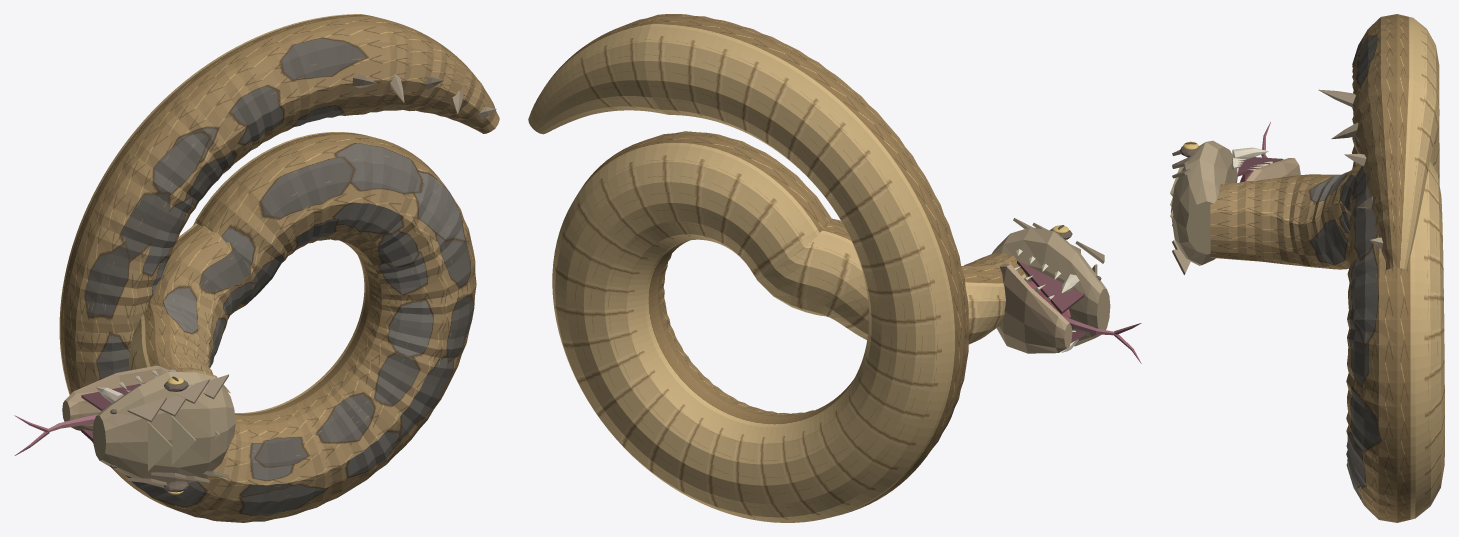
Rendered from serpaduna_v01_blockout.glb.
The picture shows the model from 3 angles, left to right: view 1: azimuth 30°, elevation 25°; view 2: azimuth 150°, elevation 25°; view 3: azimuth 270°, elevation 25°; orthographic projection.
Visible parts, largest first — view 1: body_deformable_static, skull, lower_jaw_articulatable, detail_009, detail_010; view 2: body_deformable_static, skull, lower_jaw_articulatable, detail_012; view 3: body_deformable_static, skull, lower_jaw_articulatable, detail_012, detail_046.
Boxes of the visible parts, x1,y1,x2,y2 form: body_deformable_static: [59, 14, 499, 522]; skull: [92, 372, 235, 487]; lower_jaw_articulatable: [62, 365, 168, 430]; detail_009: [171, 415, 195, 465]; detail_010: [148, 421, 172, 470]; body_deformable_static: [528, 14, 1026, 522]; skull: [992, 227, 1110, 346]; lower_jaw_articulatable: [996, 263, 1072, 353]; detail_012: [1017, 260, 1084, 314]; body_deformable_static: [1210, 14, 1444, 522]; skull: [1170, 140, 1237, 265]; lower_jaw_articulatable: [1246, 158, 1300, 180]; detail_012: [1237, 157, 1283, 176]; detail_046: [1318, 89, 1355, 106].
Size of the model in its own units: 5.09 by 4.28 by 2.24.
Materials: 1 (1 with a texture image).
